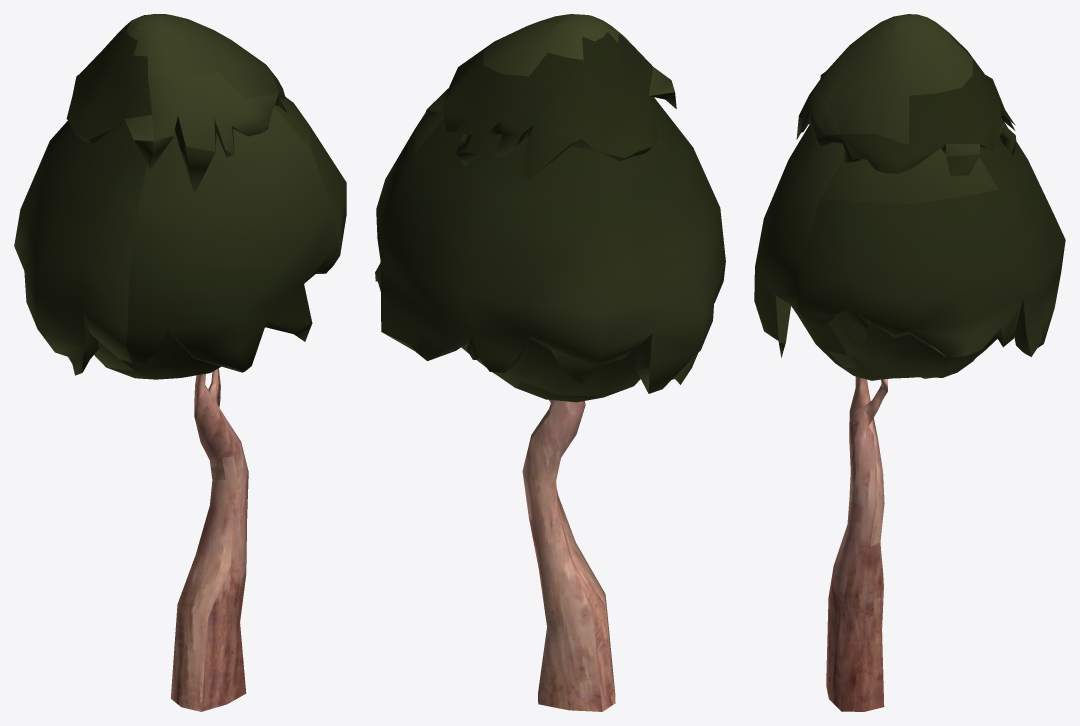
The model's file is bob_tree_tallball_large.FBX.
The picture shows the model from 3 angles, left to right: view 1: azimuth 30°, elevation 25°; view 2: azimuth 150°, elevation 25°; view 3: azimuth 270°, elevation 25°; orthographic projection. The views are drawn at different scales.
Parts seen in each view (by area): view 1: Object001; view 2: Object001; view 3: Object001.
Boxes of the visible parts, bbox=[...] form: Object001: bbox=[14, 14, 346, 711]; Object001: bbox=[375, 14, 725, 711]; Object001: bbox=[754, 14, 1065, 711].
Size of the model in its own units: 228 by 486 by 206.
Materials: 1 (1 with a texture image).
